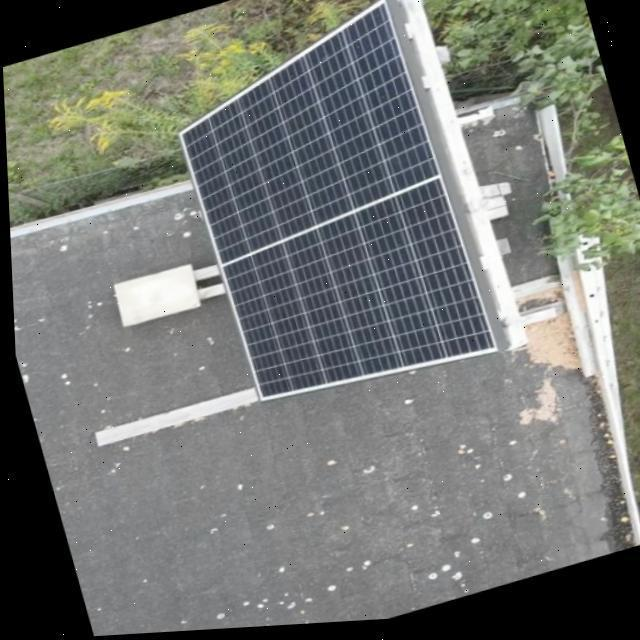Normal Solar Panel: (158, 0, 498, 426)
